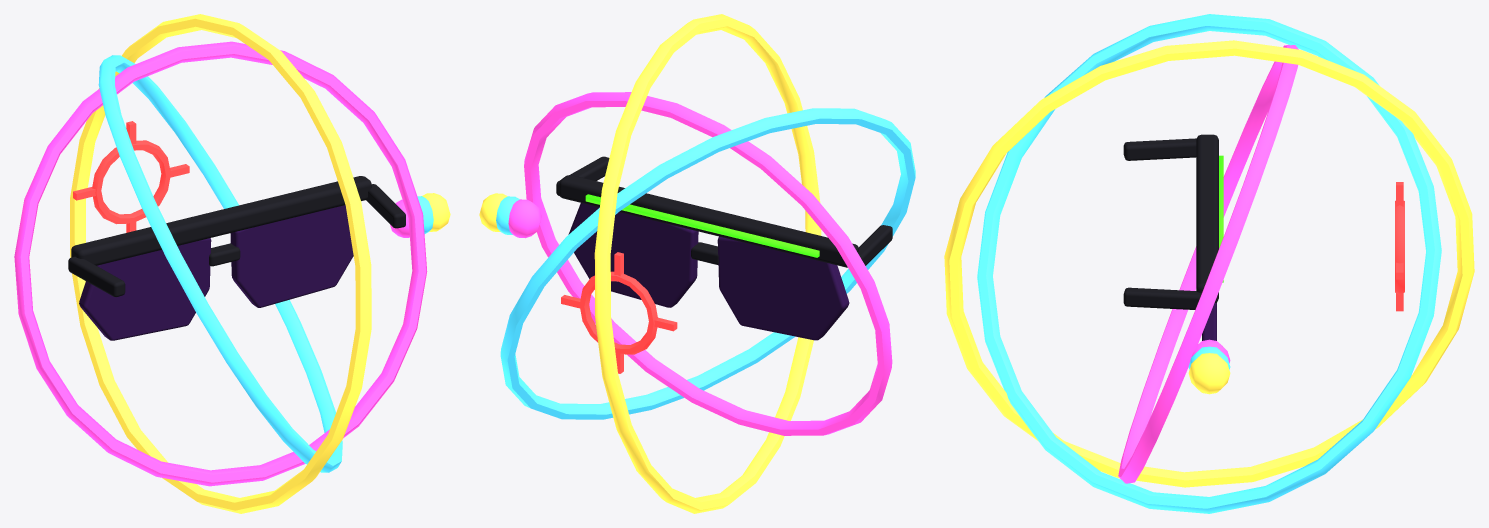
The model's file is x_spinbot.glb.
3 renders of one model, left to right at view 1: azimuth 30°, elevation 25°; view 2: azimuth 150°, elevation 25°; view 3: azimuth 270°, elevation 25°, orthographic. The views are drawn at different scales.
Parts seen in each view (by area): view 1: shades, gyro0, gyro2, gyro1, crosshair, bead.002; view 2: shades, gyro2, gyro0, gyro1, crosshair, bead, bead.002, bead.001; view 3: gyro1, gyro2, gyro0, shades, bead.002, crosshair.
Part boxes in pixels (<box>): shades: <box>68,176,405,340</box>; gyro0: <box>14,41,427,486</box>; gyro2: <box>70,14,371,513</box>; gyro1: <box>98,55,342,472</box>; crosshair: <box>73,121,189,232</box>; bead.002: <box>422,193,450,231</box>; shades: <box>556,156,892,340</box>; gyro2: <box>594,14,821,513</box>; gyro0: <box>524,92,892,435</box>; gyro1: <box>500,108,915,419</box>; crosshair: <box>561,252,677,373</box>; bead: <box>508,199,541,238</box>; bead.002: <box>479,193,507,231</box>; bead.001: <box>496,196,519,234</box>; gyro1: <box>977,14,1441,513</box>; gyro2: <box>944,40,1474,487</box>; gyro0: <box>1118,45,1298,483</box>; shades: <box>1123,134,1223,340</box>; bead.002: <box>1188,353,1230,394</box>; crosshair: <box>1395,182,1404,311</box>.
Bounding box in the file's own units: 0.5415 × 0.5538 × 0.557.
